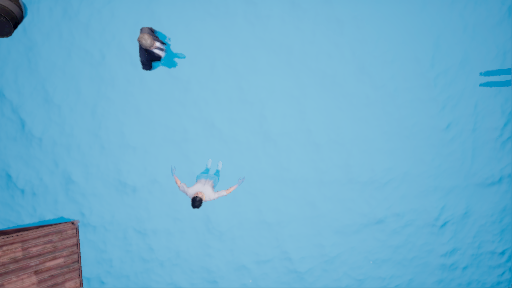person: (167, 159, 250, 210), (130, 27, 192, 76)
